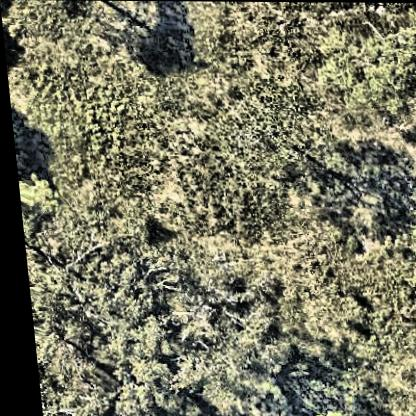tree-top: (209, 92, 331, 186), (325, 26, 416, 112)
